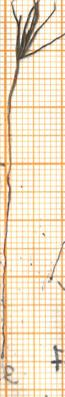flower: (0, 0, 65, 66)
root: (0, 164, 18, 360)
stem: (1, 64, 24, 166)
